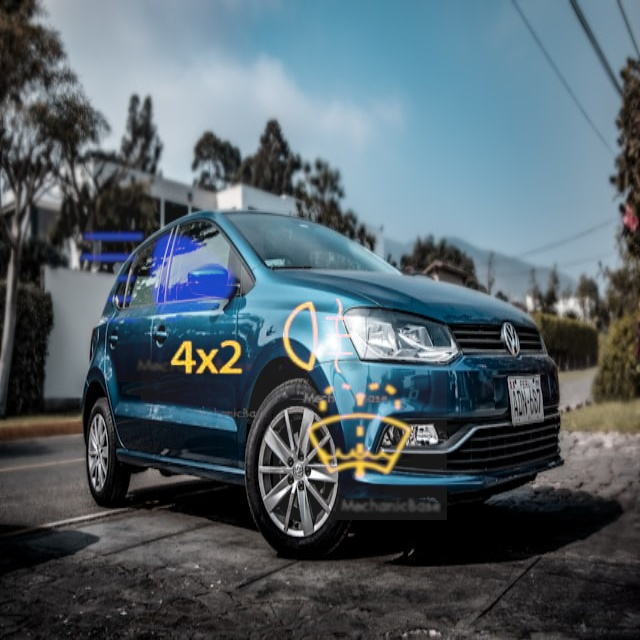symbol: (57, 178, 261, 382), (273, 346, 447, 520), (246, 263, 393, 410), (141, 293, 272, 424)
